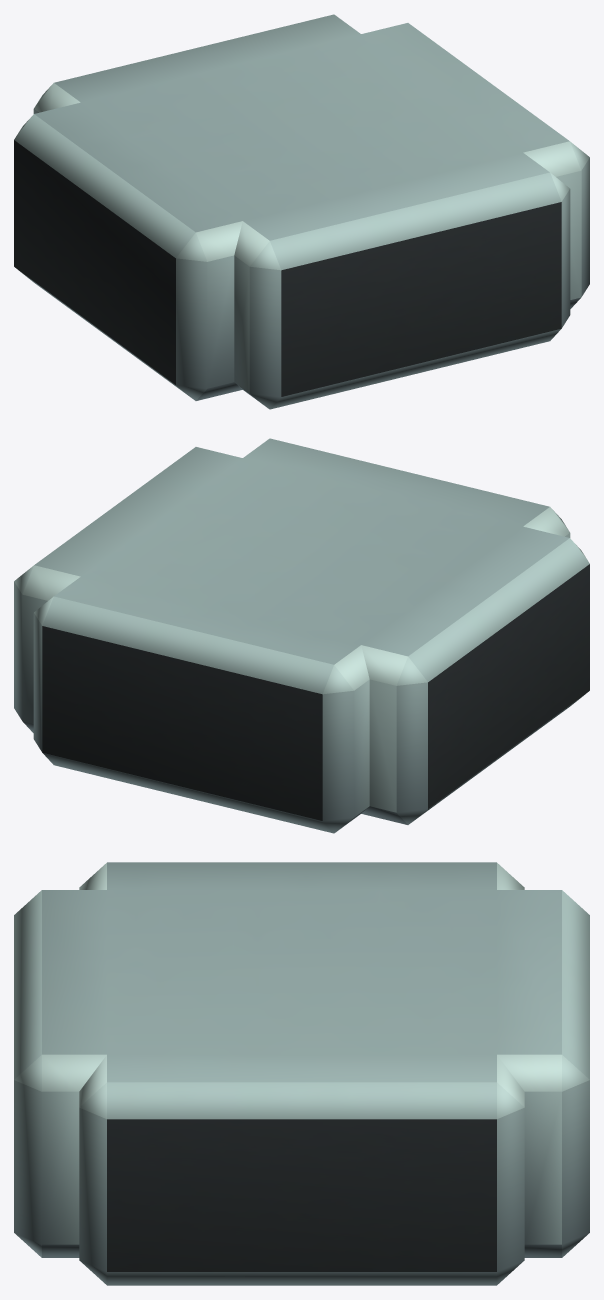
File: air_duct_cross.fbx
3 views of the same model, one above another, from view 1: azimuth 30°, elevation 25°; view 2: azimuth 150°, elevation 25°; view 3: azimuth 270°, elevation 25° (orthographic). The views are drawn at different scales.
Parts seen in each view (by area): view 1: air_duct_cross; view 2: air_duct_cross; view 3: air_duct_cross.
Boxes of the visible parts, x1=… form: air_duct_cross: x1=14, y1=14, x2=589, y2=409; air_duct_cross: x1=14, y1=438, x2=589, y2=833; air_duct_cross: x1=14, y1=862, x2=589, y2=1285.
Size of the model in its own units: 105 by 40.92 by 105.
